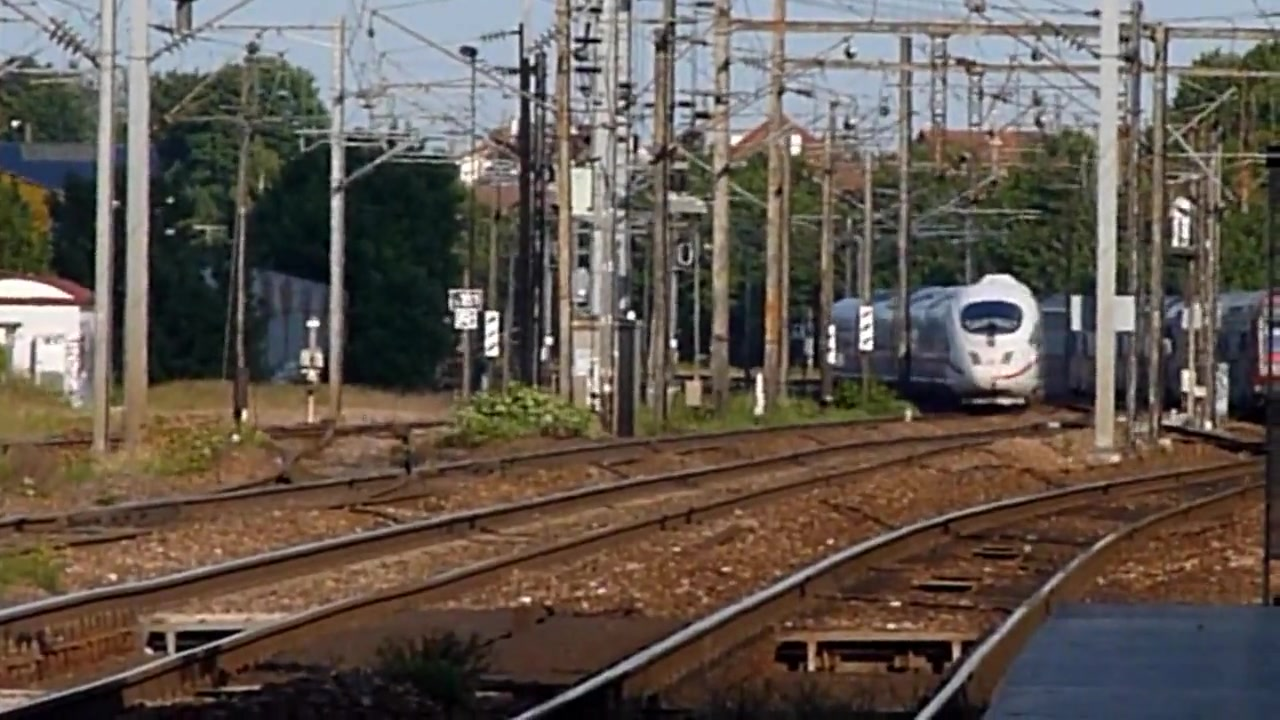train: (827, 274, 1047, 407)
